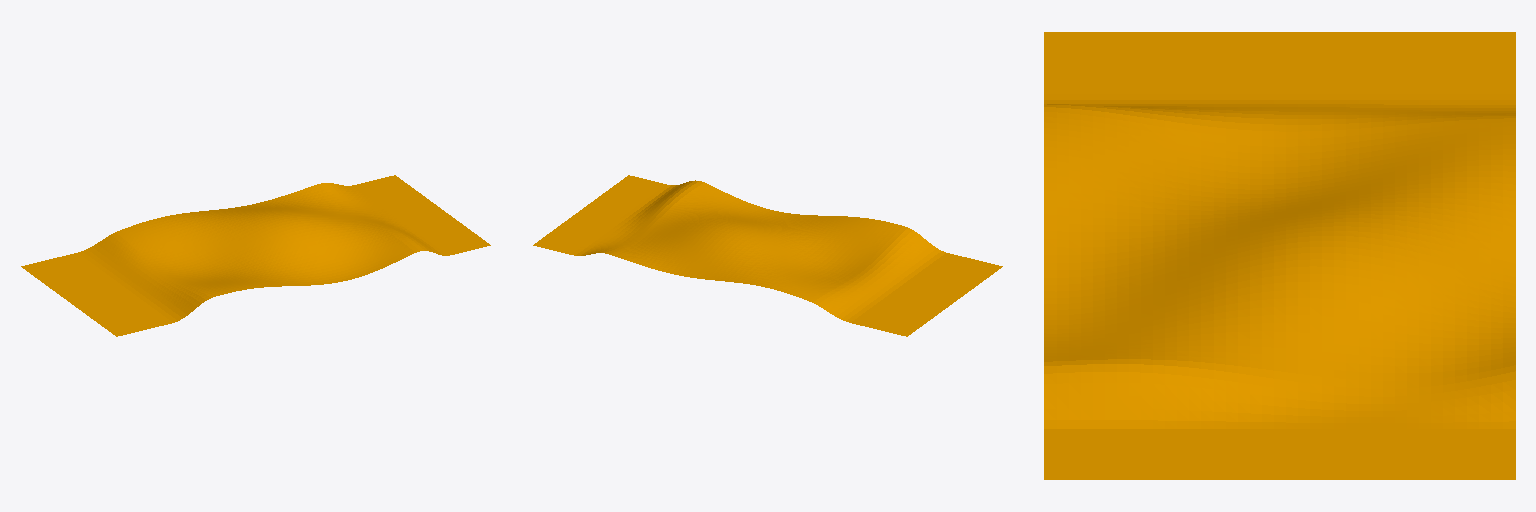
URDF robot description (hill_10):
<?xml version='1.0' encoding='UTF-8'?>
<robot name="hill_10">
  <link name="terrain_link">
    <inertial>
      <origin xyz="0 0 0" rpy="0 0 0"/>
      <mass value="1.0"/>
      <inertia ixx="1.0" ixy="0.0" ixz="0.0" iyy="1.0" iyz="0.0" izz="1.0"/>
    </inertial>
    <visual name="terrain_visual">
      <geometry>
        <mesh filename="hill_10.obj" scale="1 1 1"/>
      </geometry>
      <origin xyz="0 0 0" rpy="0 0 0"/>
    </visual>
    <collision name="terrain_collision">
      <geometry>
        <mesh filename="hill_10.obj" scale="1 1 1"/>
      </geometry>
      <origin xyz="0 0 0" rpy="0 0 0"/>
    </collision>
  </link>
</robot>

--- Render facts (derived) ---
The picture shows the robot from 3 angles, left to right: view 1: azimuth 30°, elevation 25°; view 2: azimuth 150°, elevation 25°; view 3: azimuth 270°, elevation 25°; orthographic projection.
Model hill_10 with 1 links and 0 joints (none), rooted at terrain_link, posed every joint at zero.
Links seen in each view (by area): view 1: terrain_link; view 2: terrain_link; view 3: terrain_link.
Link boxes in pixels (left/top/right/bottom): terrain_link: left=21, top=175, right=490, bottom=336; terrain_link: left=533, top=175, right=1002, bottom=336; terrain_link: left=1044, top=32, right=1515, bottom=479.
Size in the robot's own frame: 54 by 24 by 2.92 metres.
Meshes: 1 distinct files referenced, 1 mesh visuals loaded (1 OBJ).
